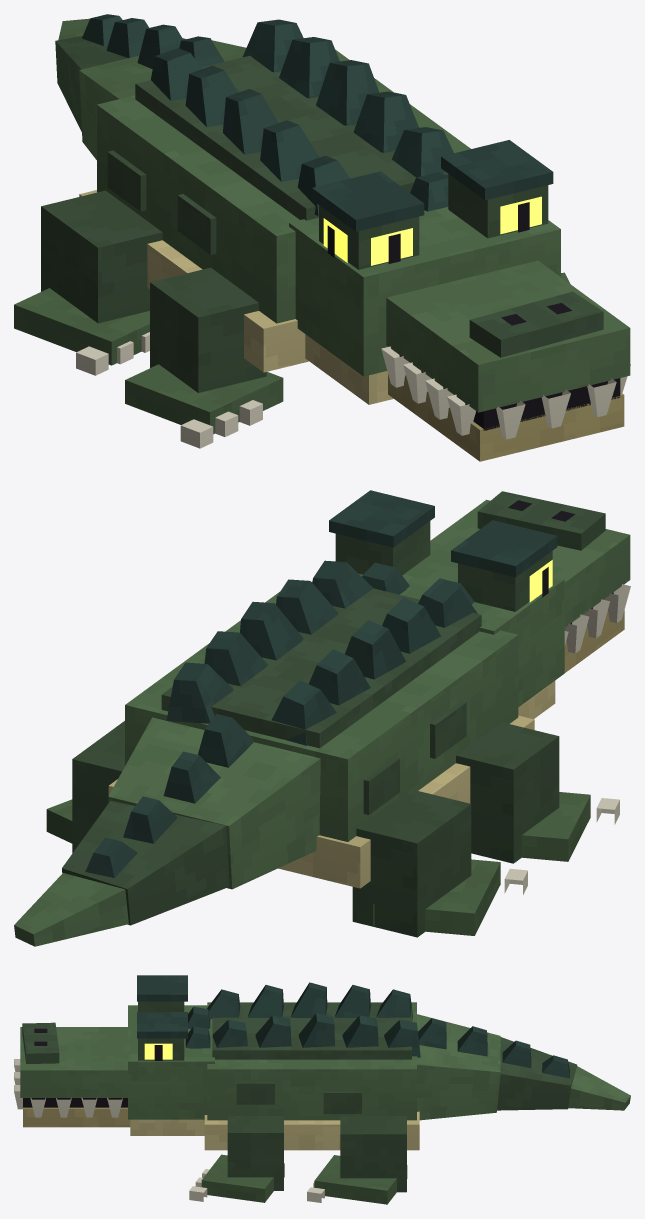
The model's file is mob_croc.glb.
3 renders of one model, top to bottom at view 1: azimuth 30°, elevation 25°; view 2: azimuth 150°, elevation 25°; view 3: azimuth 270°, elevation 25°, orthographic. The views are drawn at different scales.
Visible parts, largest first — view 1: mob_croc, leg_br, leg_fr, sway_tail, glow_eyes; view 2: mob_croc, sway_tail, leg_br, leg_fr, leg_bl; view 3: mob_croc, sway_tail, leg_bl, leg_fl, glow_eyes.
Boxes of the visible parts, x1,y1,x2,y2 form: mob_croc: (79, 19, 630, 461); leg_br: (14, 190, 162, 375); leg_fr: (125, 267, 283, 448); sway_tail: (55, 14, 246, 159); glow_eyes: (323, 196, 541, 265); mob_croc: (108, 490, 630, 888); sway_tail: (14, 714, 320, 946); leg_br: (352, 789, 527, 937); leg_fr: (456, 722, 619, 863); leg_bl: (46, 721, 124, 852); mob_croc: (14, 975, 420, 1150); sway_tail: (417, 1014, 630, 1120); leg_bl: (307, 1116, 407, 1204); leg_fl: (189, 1116, 284, 1202); glow_eyes: (144, 1043, 172, 1059).
Bounding box in the file's own units: 1.19 × 0.605 × 2.41.
Materials: 8 (5 with a texture image).
